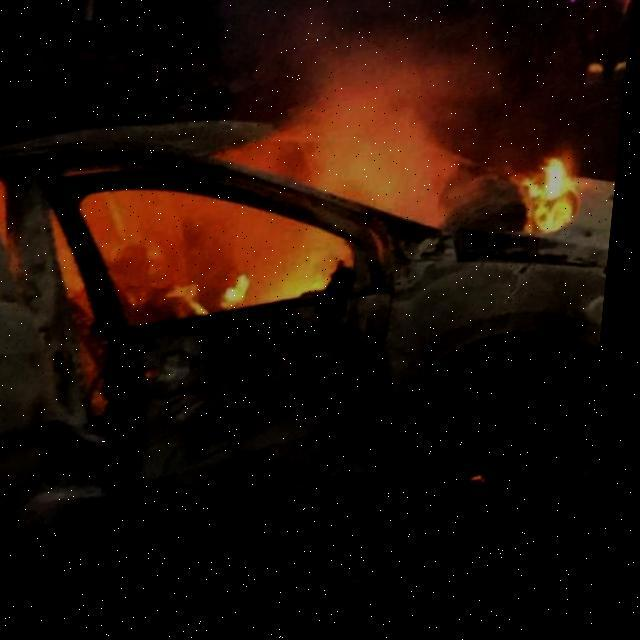Fire: (34, 80, 602, 396)
